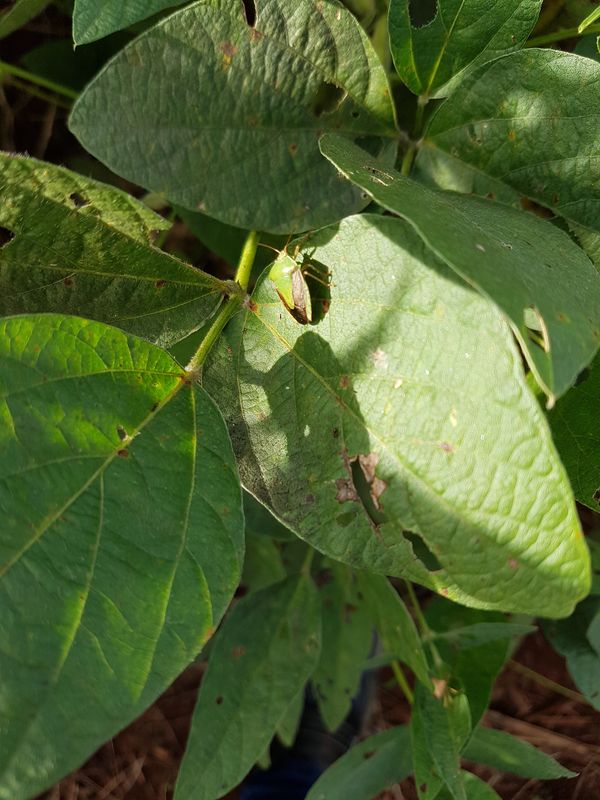Edessa_meditabunda: (240, 226, 331, 346)
